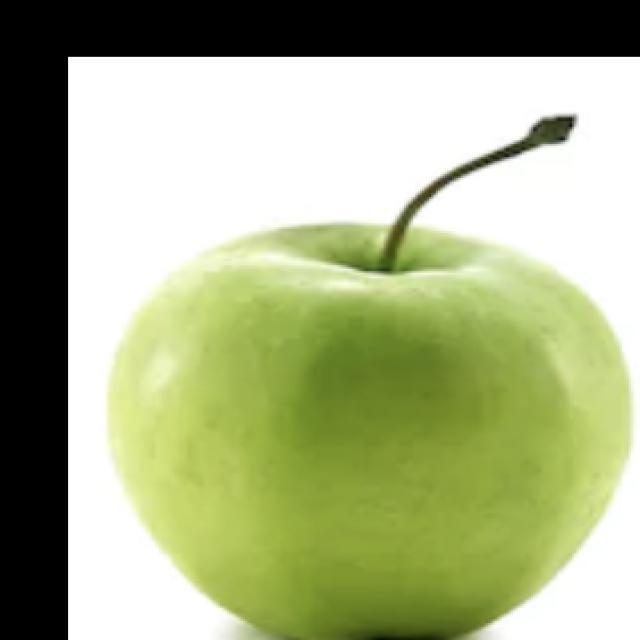Fresh Apple: (125, 226, 640, 640)
